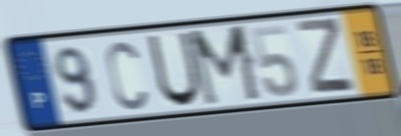5: (247, 21, 299, 99)
9: (51, 43, 99, 117)
C: (104, 38, 149, 113)
M: (186, 22, 266, 110)
U: (144, 29, 203, 109)
Z: (294, 15, 357, 95)
